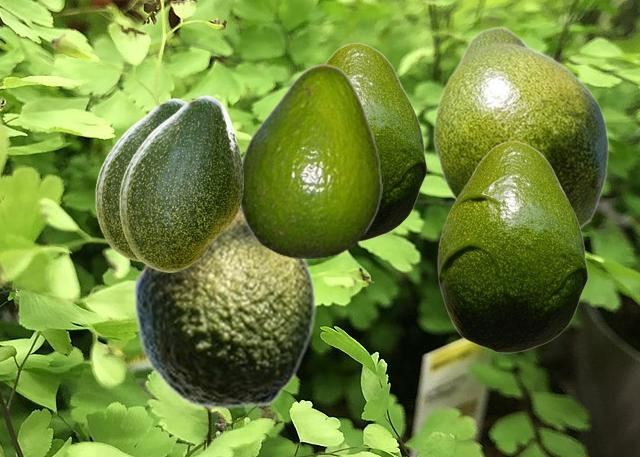avocado: (132, 212, 315, 408), (432, 26, 608, 228), (437, 140, 587, 352), (239, 63, 381, 257), (119, 95, 242, 271), (325, 42, 426, 241), (95, 98, 185, 260)
